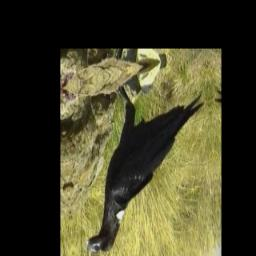Crow: (74, 60, 214, 256)
